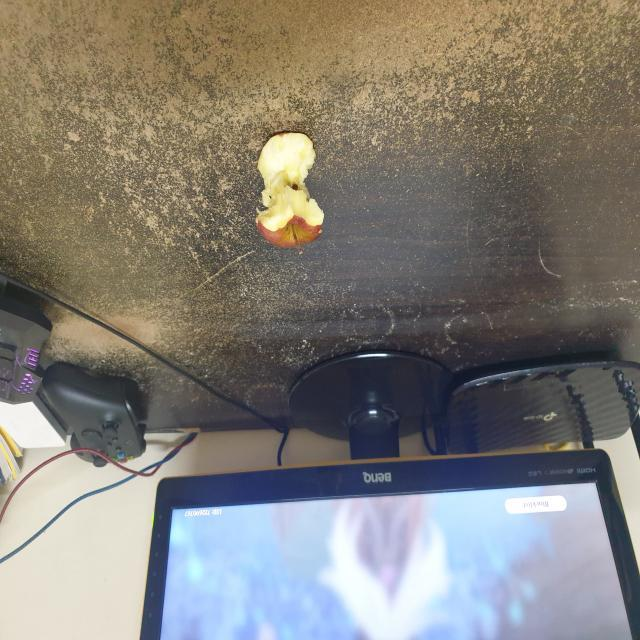apple: (248, 123, 326, 262)
